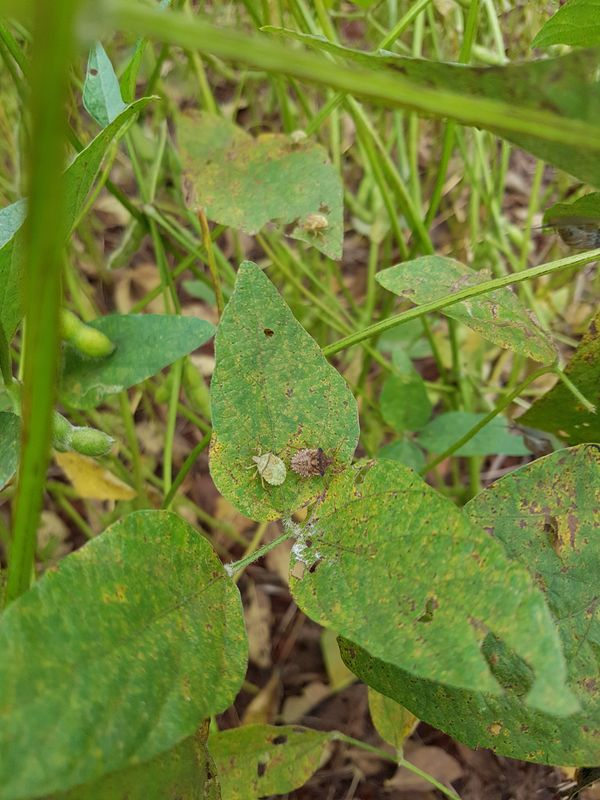Euschistus_heros_ninfa: (234, 442, 289, 499), (289, 440, 344, 489), (297, 210, 332, 241)
